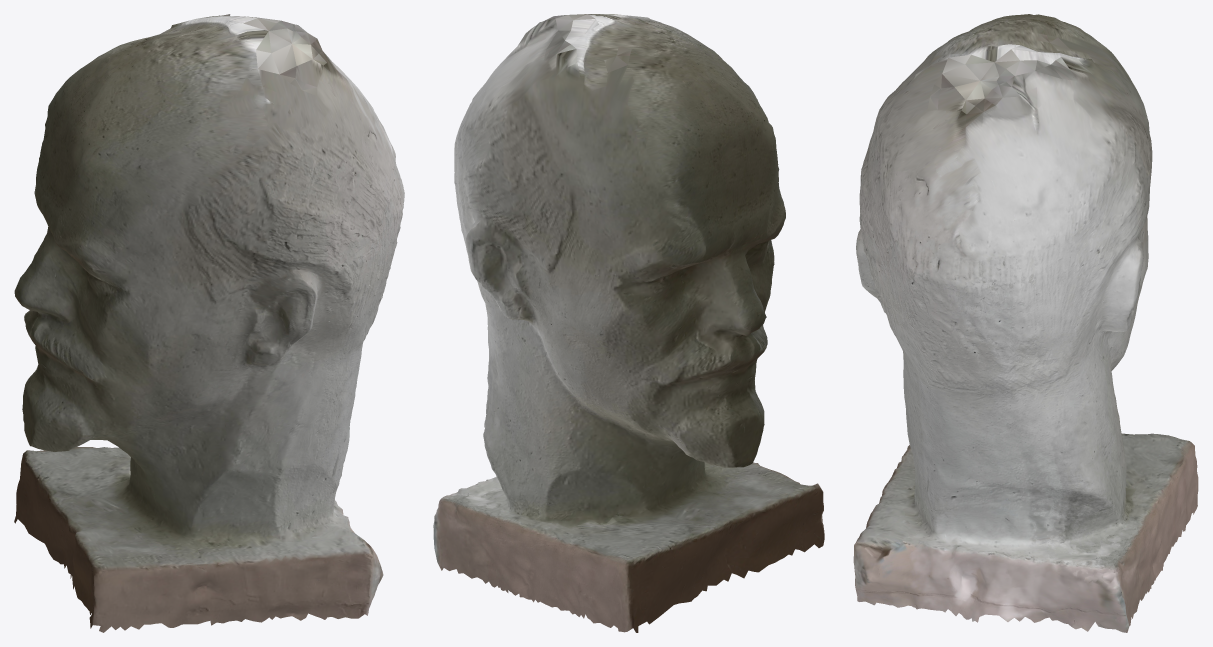
3 renders of one model, left to right at view 1: azimuth 30°, elevation 25°; view 2: azimuth 150°, elevation 25°; view 3: azimuth 270°, elevation 25°, orthographic. The views are drawn at different scales.
Visible parts, largest first — view 1: Stereo textured mesh; view 2: Stereo textured mesh; view 3: Stereo textured mesh.
Boxes of the visible parts, box(x1,y1,x2,y2) form: Stereo textured mesh: box(14, 14, 404, 632); Stereo textured mesh: box(433, 14, 824, 632); Stereo textured mesh: box(853, 14, 1198, 632).
Size of the model in its own units: 6.4 by 10 by 5.83.
Materials: 1 (1 with a texture image).
